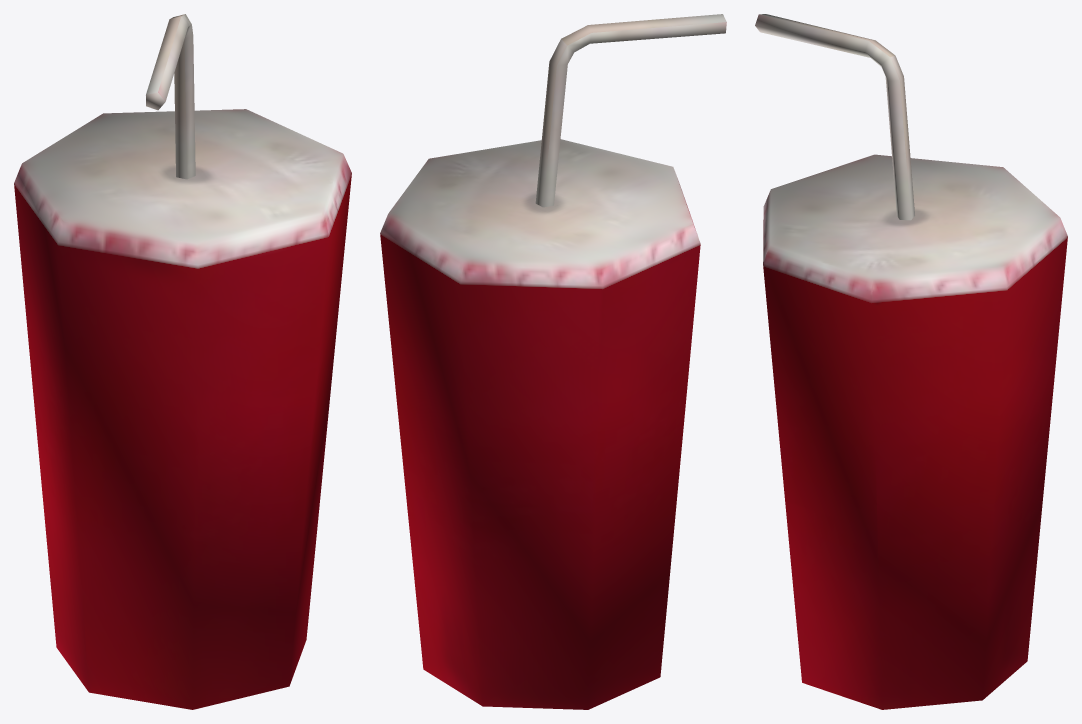
Rendered from Soda.dae.
3 renders of one model, left to right at view 1: azimuth 30°, elevation 25°; view 2: azimuth 150°, elevation 25°; view 3: azimuth 270°, elevation 25°, orthographic. The views are drawn at different scales.
Visible parts, largest first — view 1: Soda; view 2: Soda; view 3: Soda.
Part boxes in pixels (x1,y1,x2,y2): Soda: (14,14,351,709); Soda: (380,14,726,709); Soda: (755,14,1067,709).
Bounding box in the file's own units: 0.1403 × 0.1406 × 0.3021.
Materials: 1 (1 with a texture image).
